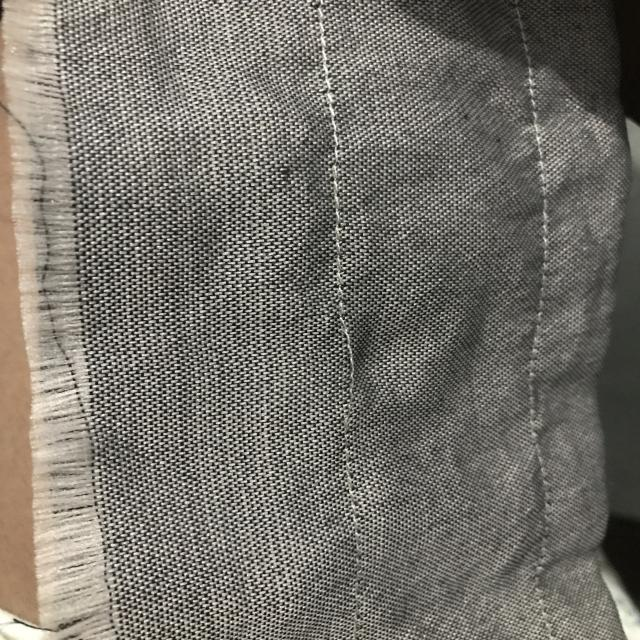good: (323, 183, 361, 281)
skip: (328, 310, 365, 404)
